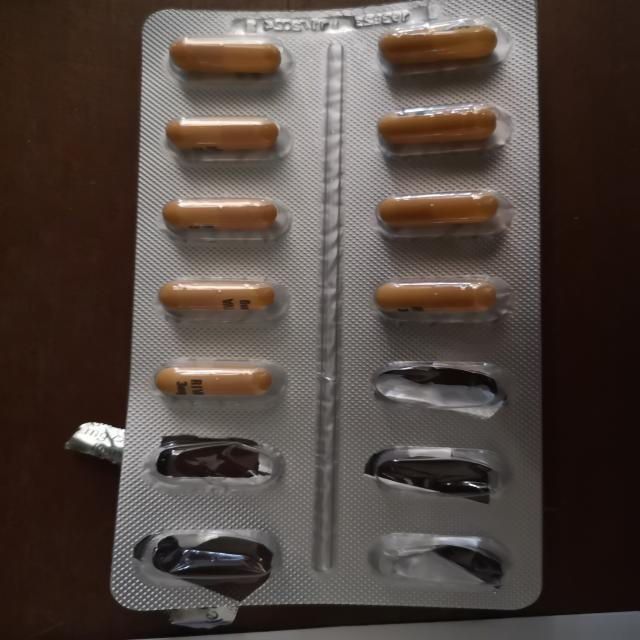Empty: (358, 439, 514, 505), (127, 527, 289, 590), (134, 430, 292, 492), (362, 528, 514, 590), (365, 354, 515, 416)
Pill: (371, 100, 516, 160), (371, 21, 512, 77), (146, 355, 291, 407), (153, 272, 294, 324), (369, 273, 518, 321), (158, 111, 295, 162), (163, 32, 297, 84), (157, 194, 296, 244), (374, 189, 516, 237)
